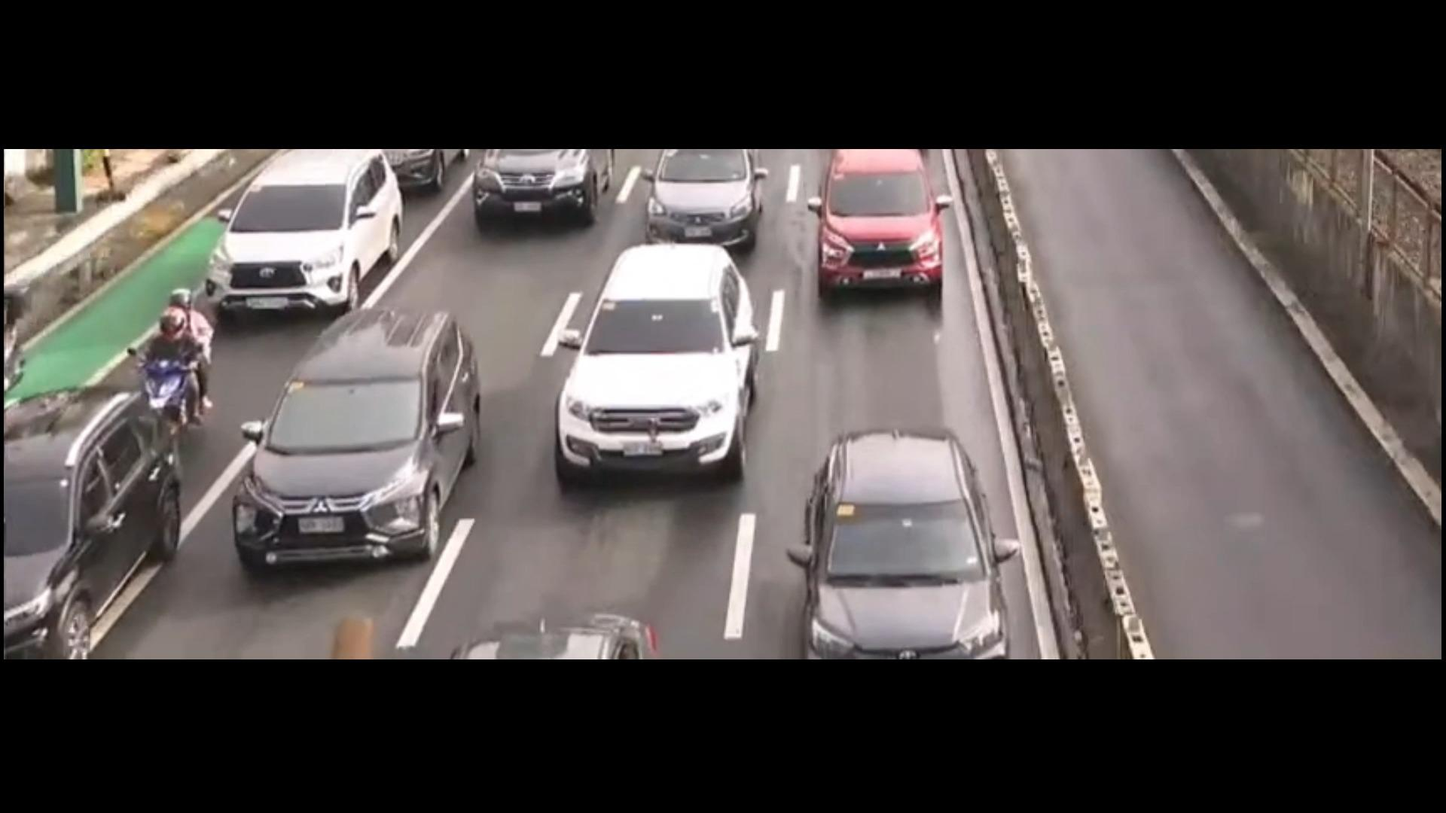Motorcycle: (147, 258, 243, 452)
SUV: (225, 307, 501, 575), (548, 245, 763, 506), (789, 431, 1033, 660), (0, 377, 189, 648), (204, 154, 402, 325), (796, 143, 956, 303), (644, 145, 772, 252), (473, 151, 622, 222)
